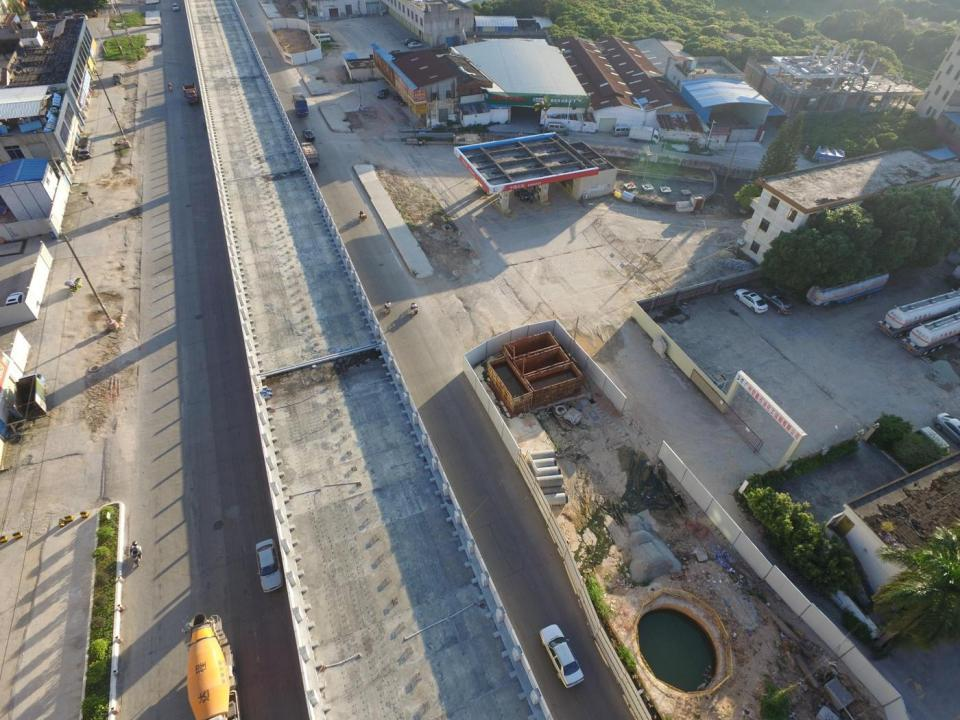car: (538, 622, 584, 690), (253, 535, 283, 594), (932, 409, 960, 446), (734, 285, 769, 314), (762, 288, 792, 316), (4, 291, 24, 323), (512, 184, 530, 202), (302, 126, 316, 141), (403, 36, 421, 44), (377, 86, 388, 98), (112, 73, 123, 85), (406, 40, 422, 48), (296, 10, 307, 21), (171, 3, 180, 10)
truck: (178, 611, 238, 720), (874, 290, 960, 338), (898, 311, 960, 360), (627, 124, 660, 146), (301, 141, 320, 168), (180, 81, 199, 105), (290, 92, 308, 117)
van: (77, 136, 94, 159), (545, 120, 567, 133), (612, 123, 629, 138), (313, 31, 331, 44)
